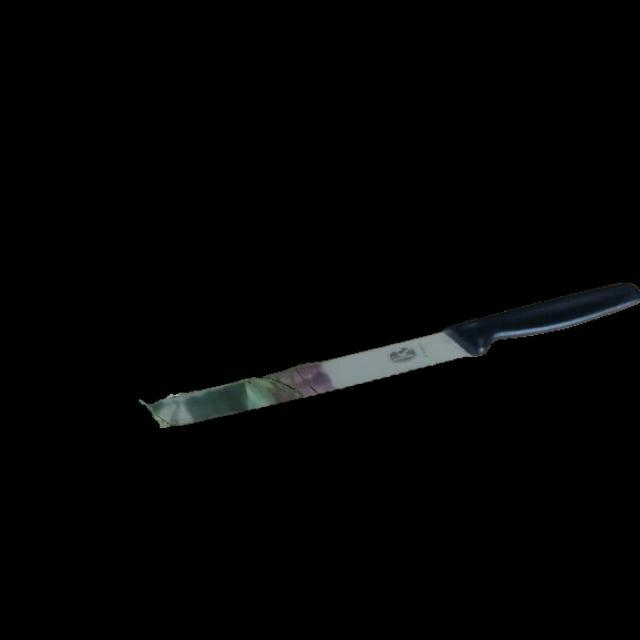knife: (144, 276, 639, 429)
